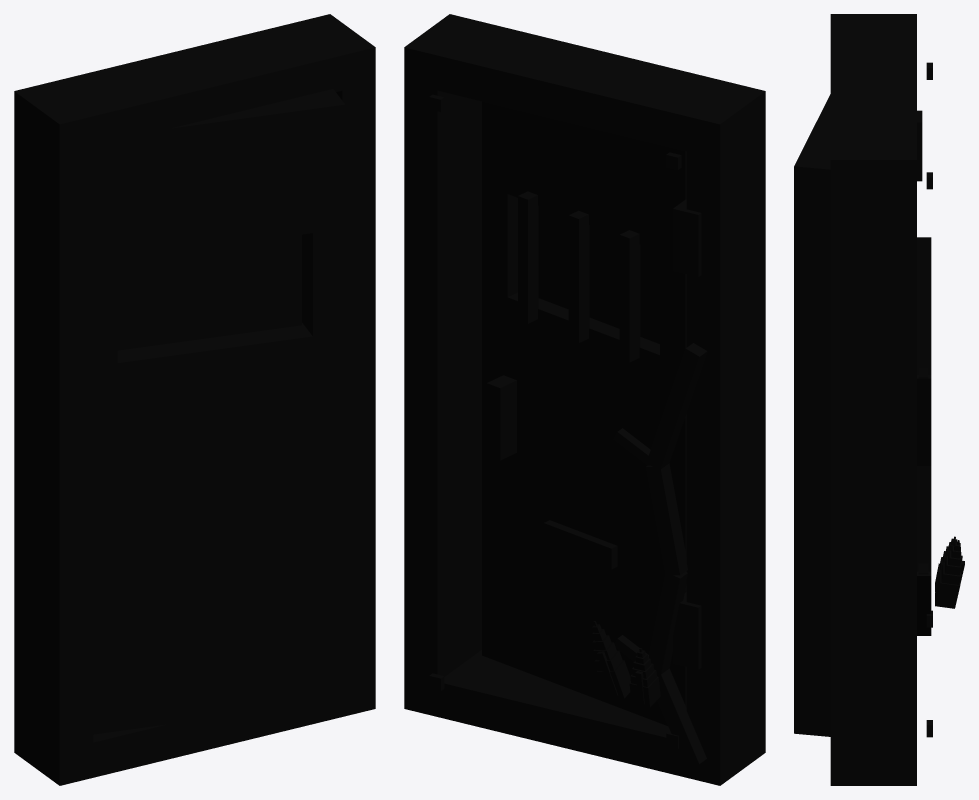
File: lab_door_eroded.obj
3 renders of one model, left to right at view 1: azimuth 30°, elevation 25°; view 2: azimuth 150°, elevation 25°; view 3: azimuth 270°, elevation 25°, orthographic. The views are drawn at different scales.
Size of the model in its own units: 0.4375 by 0.875 by 0.2164.
